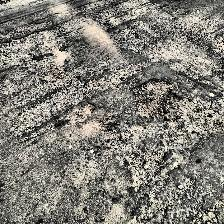pothole: (131, 77, 181, 117), (127, 148, 166, 188), (76, 102, 96, 122)
